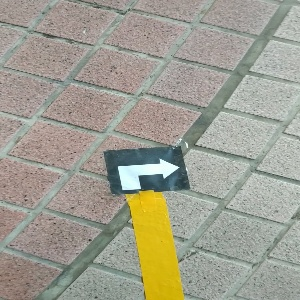right: (104, 148, 188, 195)
